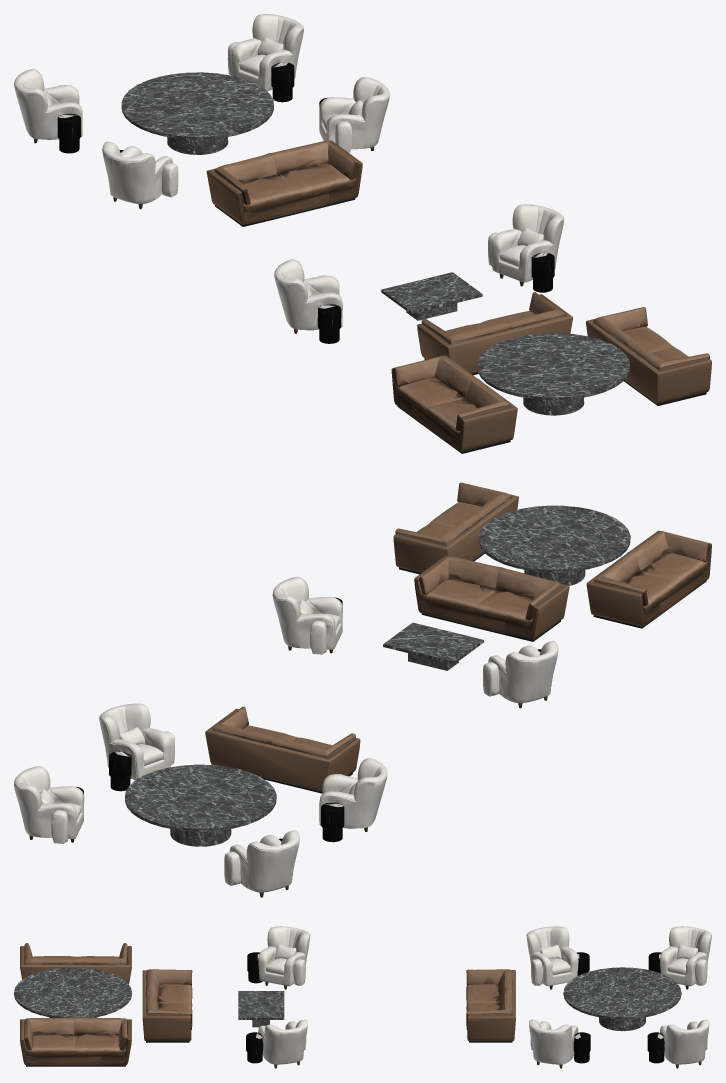
Rendered from Chancery Rosewood_LOBBY_FURNITURE_BAKE_V5.glb.
The picture shows the model from 3 angles, top to bottom: view 1: azimuth 30°, elevation 25°; view 2: azimuth 150°, elevation 25°; view 3: azimuth 270°, elevation 25°; orthographic projection. The views are drawn at different scales.
Parts seen in each view (by area): view 1: LOBBY FURNITURE; view 2: LOBBY FURNITURE; view 3: LOBBY FURNITURE.
Boxes of the visible parts, box(x1,y1,x2,y2) form: LOBBY FURNITURE: box(14, 14, 711, 453); LOBBY FURNITURE: box(14, 482, 711, 897); LOBBY FURNITURE: box(14, 926, 711, 1068).
Size of the model in its own units: 4.23 by 0.8488 by 11.83.
Materials: 3 (3 with a texture image).
